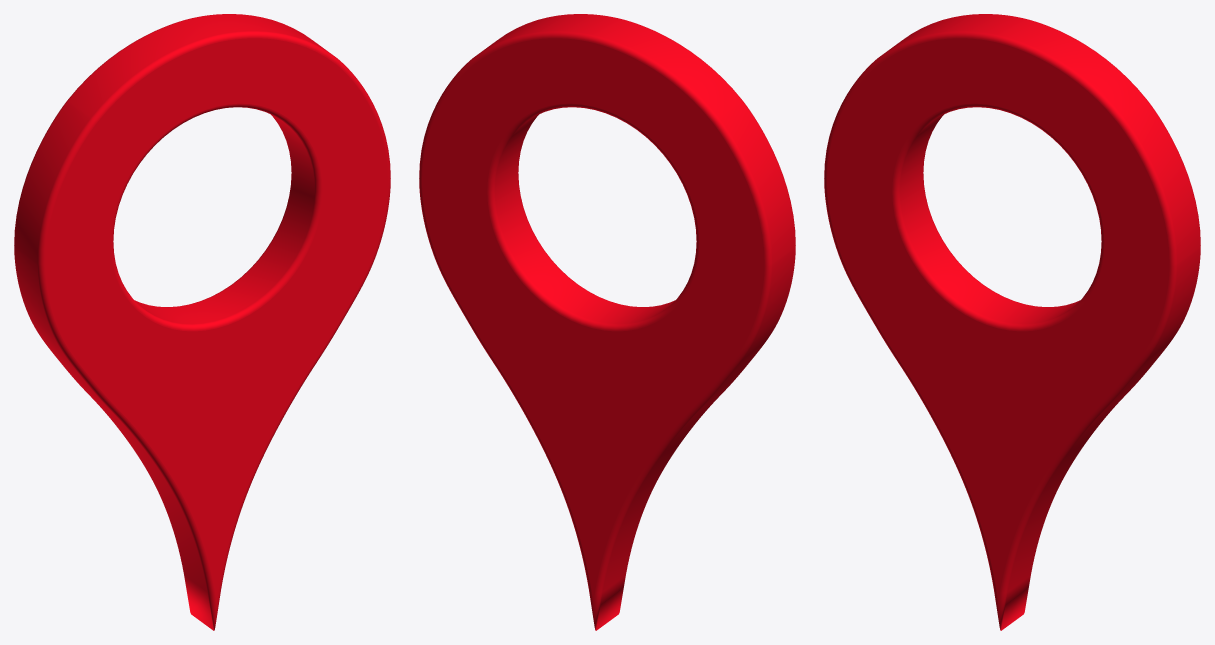
File: map_location_3d.glb
The picture shows the model from 3 angles, left to right: view 1: azimuth 30°, elevation 25°; view 2: azimuth 150°, elevation 25°; view 3: azimuth 330°, elevation 25°; orthographic projection.
Visible parts, largest first — view 1: Object_2; view 2: Object_2; view 3: Object_2.
Boxes of the visible parts, x1=… form: Object_2: x1=14, y1=14, x2=390, y2=630; Object_2: x1=419, y1=14, x2=795, y2=630; Object_2: x1=824, y1=14, x2=1200, y2=630.
Size of the model in its own units: 11.38 by 18.37 by 1.58.
